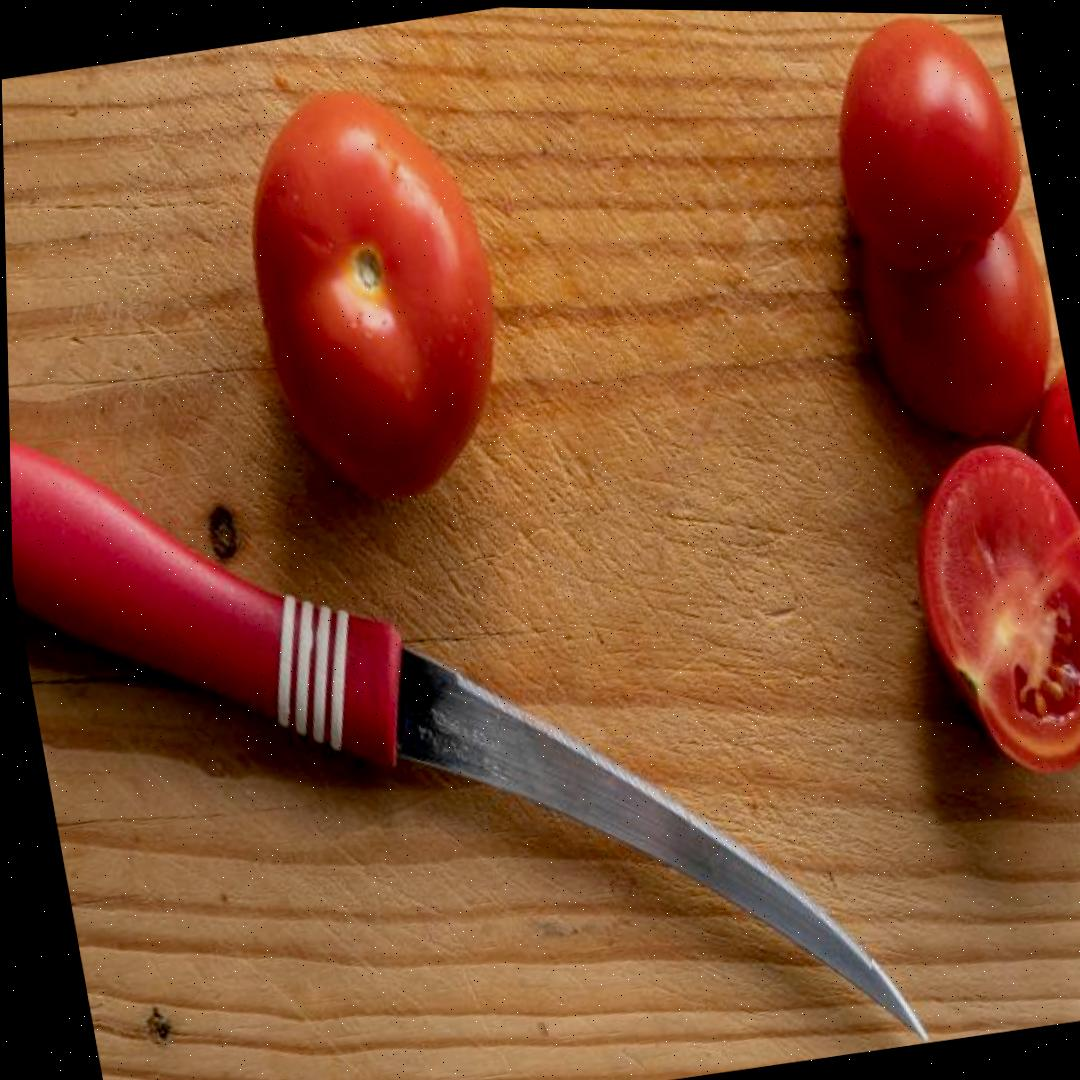matang: (225, 71, 527, 515), (896, 434, 1080, 788), (844, 187, 1072, 457), (814, 12, 1039, 280), (1008, 356, 1080, 655)
